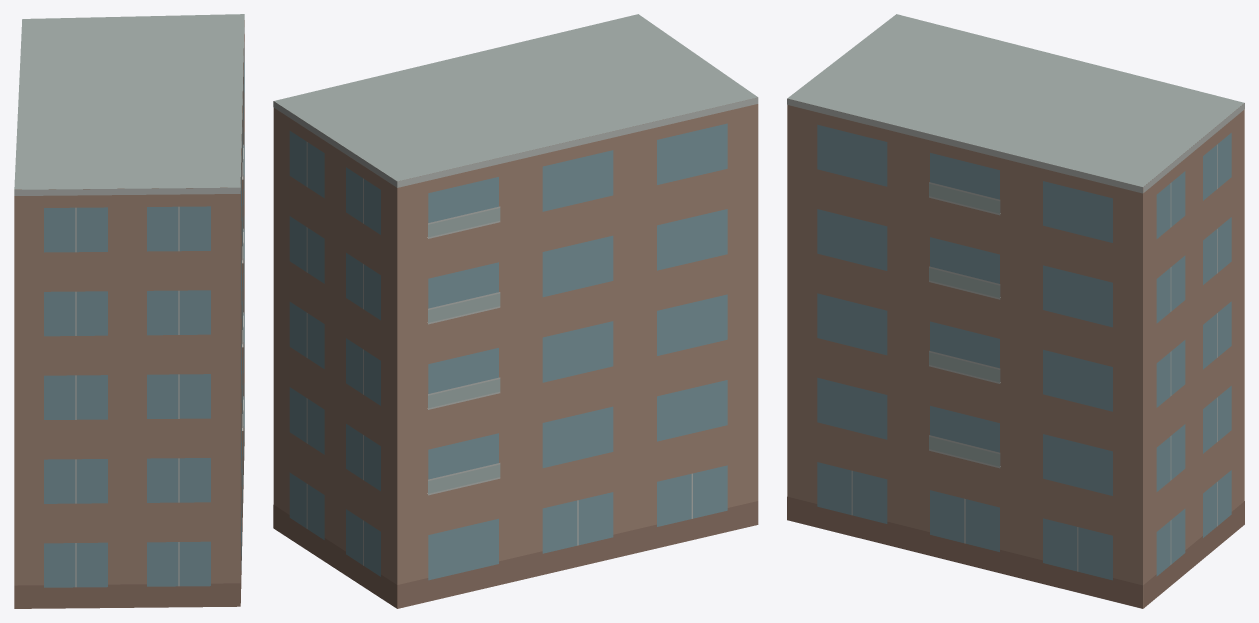
Rendered from survey-upis-32744361.glb.
3 renders of one model, left to right at view 1: azimuth 30°, elevation 25°; view 2: azimuth 150°, elevation 25°; view 3: azimuth 270°, elevation 25°, orthographic.
Parts seen in each view (by area): view 1: survey-upis-32744361.tmp; view 2: survey-upis-32744361.tmp; view 3: survey-upis-32744361.tmp.
Part boxes in pixels (bbox=[...]): survey-upis-32744361.tmp: bbox=[14, 14, 244, 608]; survey-upis-32744361.tmp: bbox=[273, 14, 758, 608]; survey-upis-32744361.tmp: bbox=[787, 14, 1244, 608].
Bounding box in the file's own units: 14.28 × 16.2 × 15.94.
